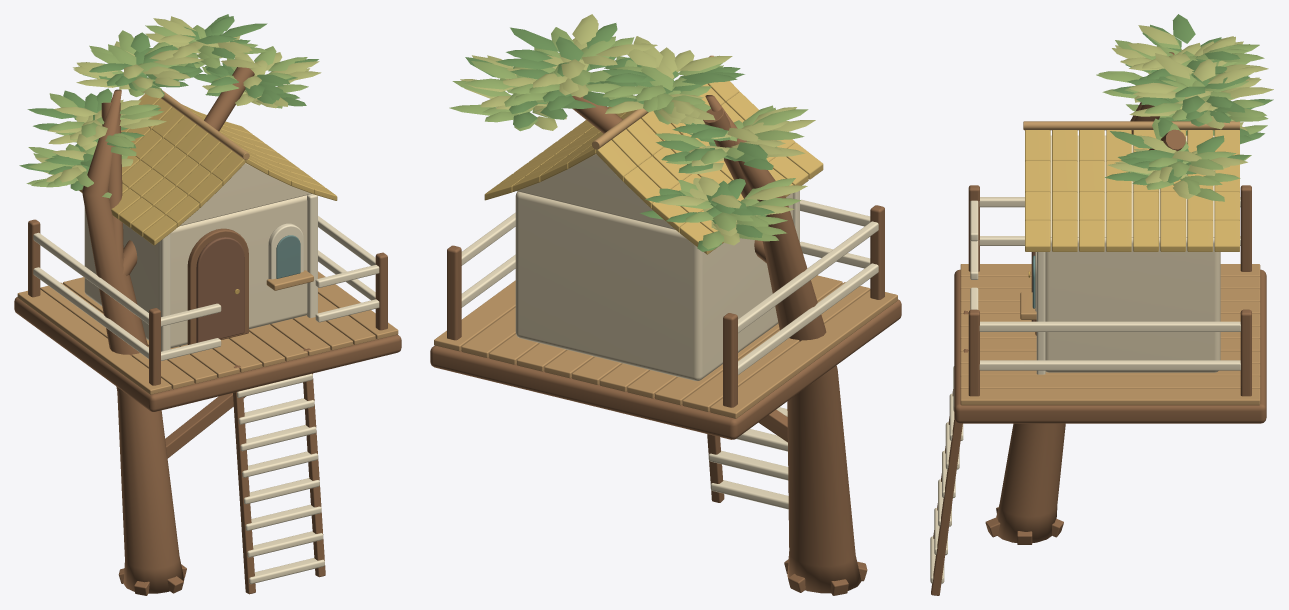
The model's file is cozy_treehouse.glb.
3 views of the same model, side by side, from view 1: azimuth 30°, elevation 25°; view 2: azimuth 150°, elevation 25°; view 3: azimuth 270°, elevation 25° (orthographic). The views are drawn at different scales.
Parts seen in each view (by area): view 1: treehouse_Timber, treehouse_Trim, treehouse_TimberLight, treehouse_Plaster, treehouse_TreehouseRoof, Canopy_LeafGold, Canopy_Leaf, Canopy_LeafLight, treehouse_Door, treehouse_Glass; view 2: treehouse_Plaster, treehouse_Timber, treehouse_TimberLight, treehouse_TreehouseRoof, Canopy_LeafLight, Canopy_LeafGold, Canopy_Leaf, treehouse_Trim; view 3: treehouse_Timber, treehouse_TimberLight, treehouse_TreehouseRoof, treehouse_Plaster, treehouse_Trim, Canopy_LeafGold, Canopy_LeafLight, Canopy_Leaf.
Part boxes in pixels (x1,y1,x2,y2): treehouse_Timber: (14,67,401,595); treehouse_Trim: (33,194,379,584); treehouse_TimberLight: (17,90,398,394); treehouse_Plaster: (84,163,311,348); treehouse_TreehouseRoof: (79,94,337,245); Canopy_LeafGold: (35,16,321,182); Canopy_Leaf: (19,14,318,190); Canopy_LeafLight: (26,25,308,198); treehouse_Door: (196,237,244,342); treehouse_Glass: (276,235,300,278); treehouse_Plaster: (515,154,793,380); treehouse_Timber: (430,95,901,595); treehouse_TimberLight: (434,55,897,418); treehouse_TreehouseRoof: (484,81,823,254); Canopy_LeafLight: (449,27,808,249); Canopy_LeafGold: (460,14,815,245); Canopy_Leaf: (465,23,774,251); treehouse_Trim: (461,190,878,509); treehouse_Timber: (931,52,1266,595); treehouse_TimberLight: (960,121,1260,405); treehouse_TreehouseRoof: (1025,130,1239,251); treehouse_Plaster: (1045,135,1220,372); treehouse_Trim: (930,197,1240,583); Canopy_LeafGold: (1107,25,1273,199); Canopy_LeafLight: (1096,36,1268,201); Canopy_Leaf: (1105,14,1273,185).
Size of the model in its own units: 2.86 by 4.58 by 2.73.
